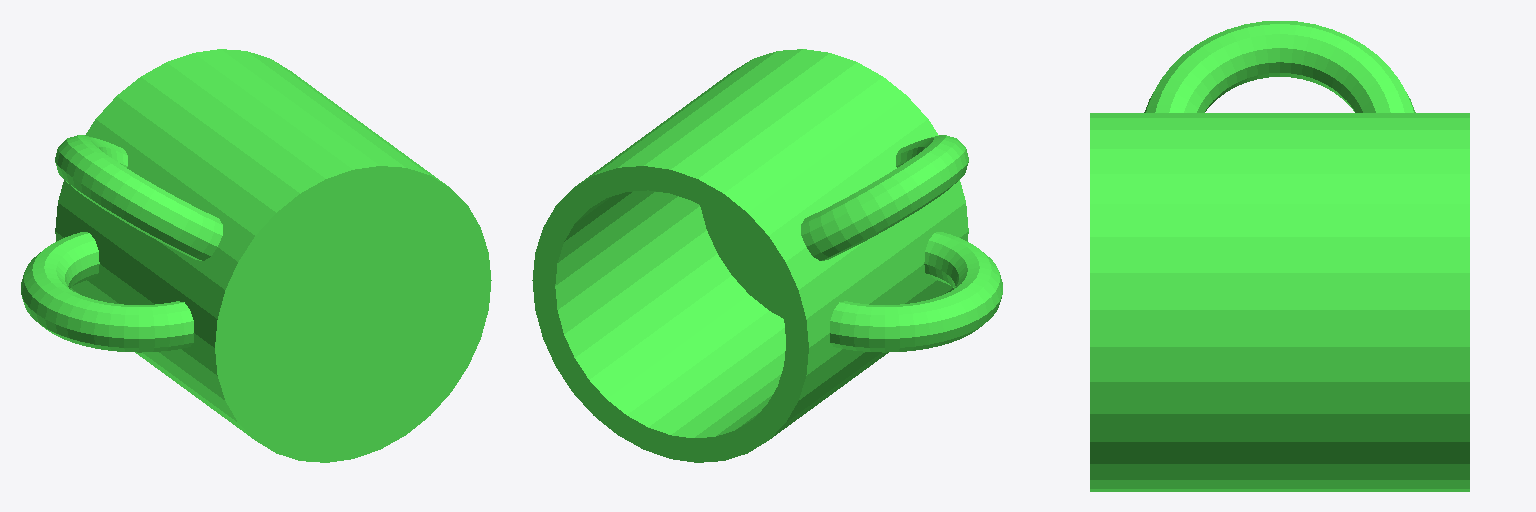
robot.urdf — mug_dbl.urdf:
<?xml version="1.0" ?>
<robot name="mug_dbl.urdf">
  <link name="baseLink">
    <inertial>
      <origin rpy="0 0 0" xyz="0 0 0"/>
       <mass value=".0"/>
       <inertia ixx="0" ixy="0" ixz="0" iyy="0" iyz="0" izz="0"/>
    </inertial>
    <visual>
      <origin rpy="0 0 0" xyz="0 0 0"/>
      <geometry>
				<mesh filename="package://meshes/mug_dbl_small.obj" scale="1 1 1"/>
      </geometry>
       <material name="green">
        <color rgba="0.4 1 0.4 1"/>
      </material>
    </visual>
    <collision>
      <origin rpy="0 0 0" xyz="0 0 0"/>
     <geometry>
				<mesh filename="package://meshes/mug_dbl_small_filled.obj" scale="1 1 1"/>
      </geometry>
    </collision>
  </link>
</robot>

--- Render facts (derived) ---
The picture shows the robot from 3 angles, left to right: view 1: azimuth 30°, elevation 25°; view 2: azimuth 150°, elevation 25°; view 3: azimuth 270°, elevation 25°; orthographic projection.
Robot: mug_dbl.urdf — 1 links, 0 joints (none); root link baseLink; default pose: every joint at zero.
Visible links, largest first — view 1: baseLink; view 2: baseLink; view 3: baseLink.
Boxes of the visible links, x1,y1,x2,y2 form: baseLink: (21,49,491,462); baseLink: (532,49,1002,462); baseLink: (1090,21,1469,491).
Size in the robot's own frame: 0.2497 by 0.1841 by 0.1857 metres.
Meshes: 1 distinct files referenced, 1 mesh visuals loaded (1 OBJ).